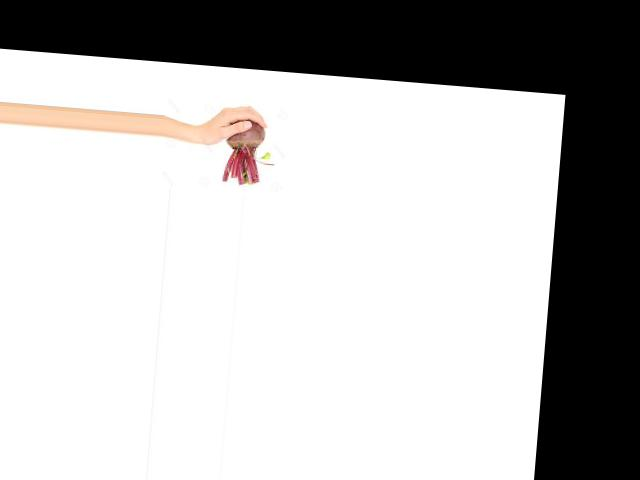beet: (223, 117, 278, 187)
